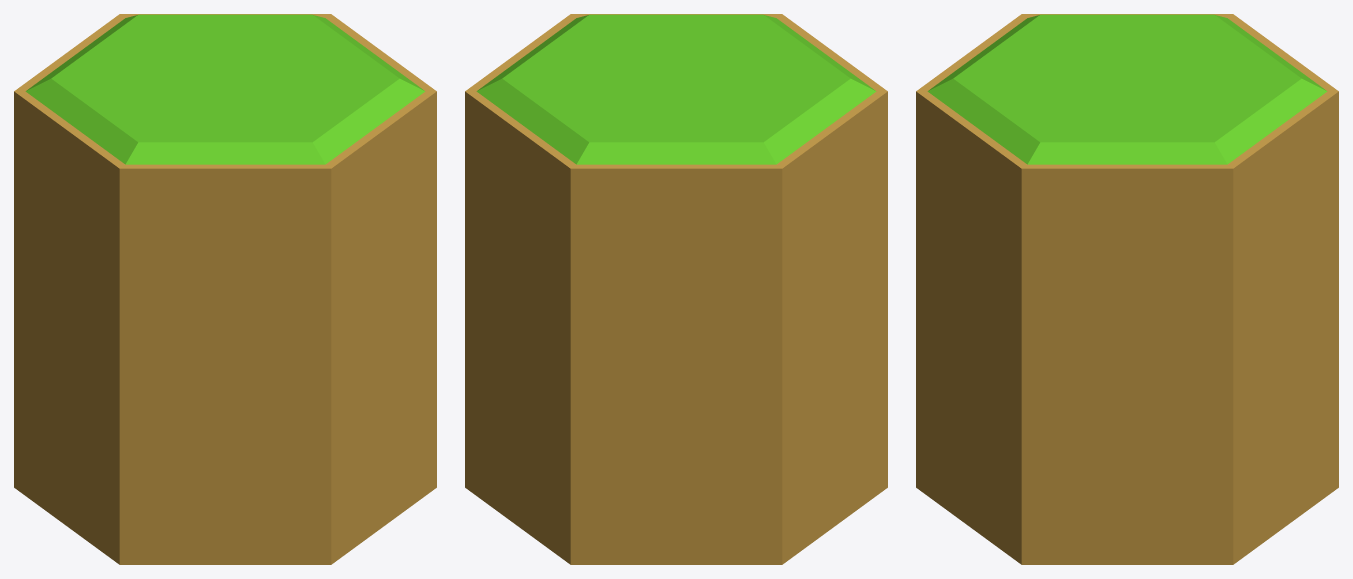
Rendered from GrassTileGex.fbx.
3 renders of one model, left to right at view 1: azimuth 30°, elevation 25°; view 2: azimuth 150°, elevation 25°; view 3: azimuth 270°, elevation 25°, orthographic.
Parts seen in each view (by area): view 1: Circle; view 2: Circle; view 3: Circle.
Boxes of the visible parts, x1,y1,x2,y2 form: Circle: (14, 14, 436, 564); Circle: (465, 14, 887, 564); Circle: (916, 14, 1338, 564).
Size of the model in its own units: 173 by 213 by 200.
